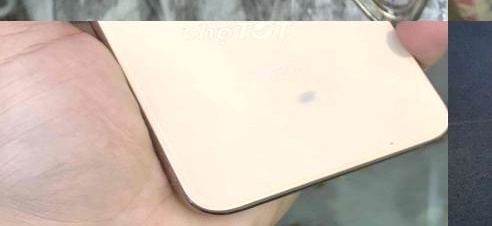scratch: (383, 127, 405, 155)
